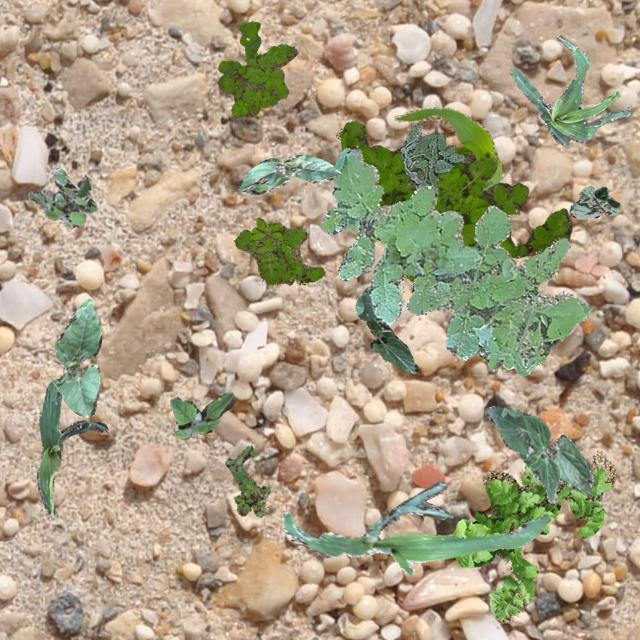crop: (280, 481, 550, 574), (510, 34, 630, 146), (483, 404, 592, 502), (36, 378, 106, 516), (394, 106, 501, 190), (354, 286, 418, 372), (54, 298, 100, 416), (237, 154, 341, 194), (568, 185, 620, 218)
weed: (320, 146, 590, 374), (338, 120, 570, 280), (450, 449, 614, 622), (216, 20, 296, 116), (234, 226, 324, 284), (400, 122, 464, 190), (28, 166, 96, 226), (223, 444, 270, 516), (170, 392, 233, 438), (250, 217, 282, 250)
